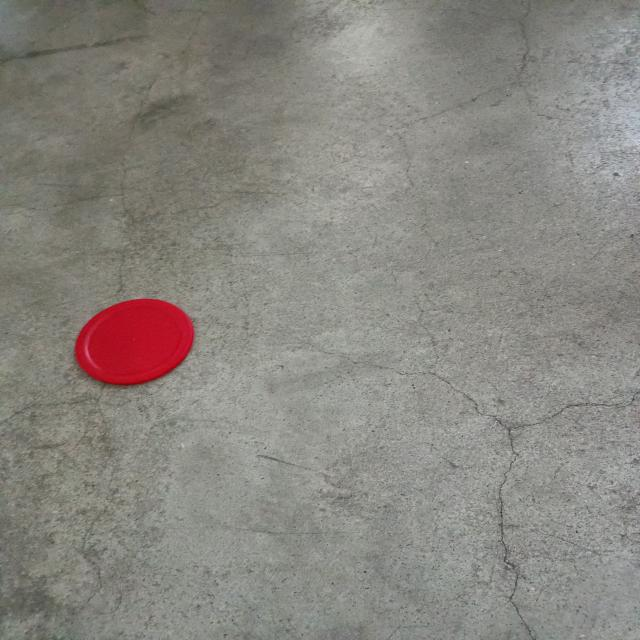chip: (72, 296, 200, 388)
